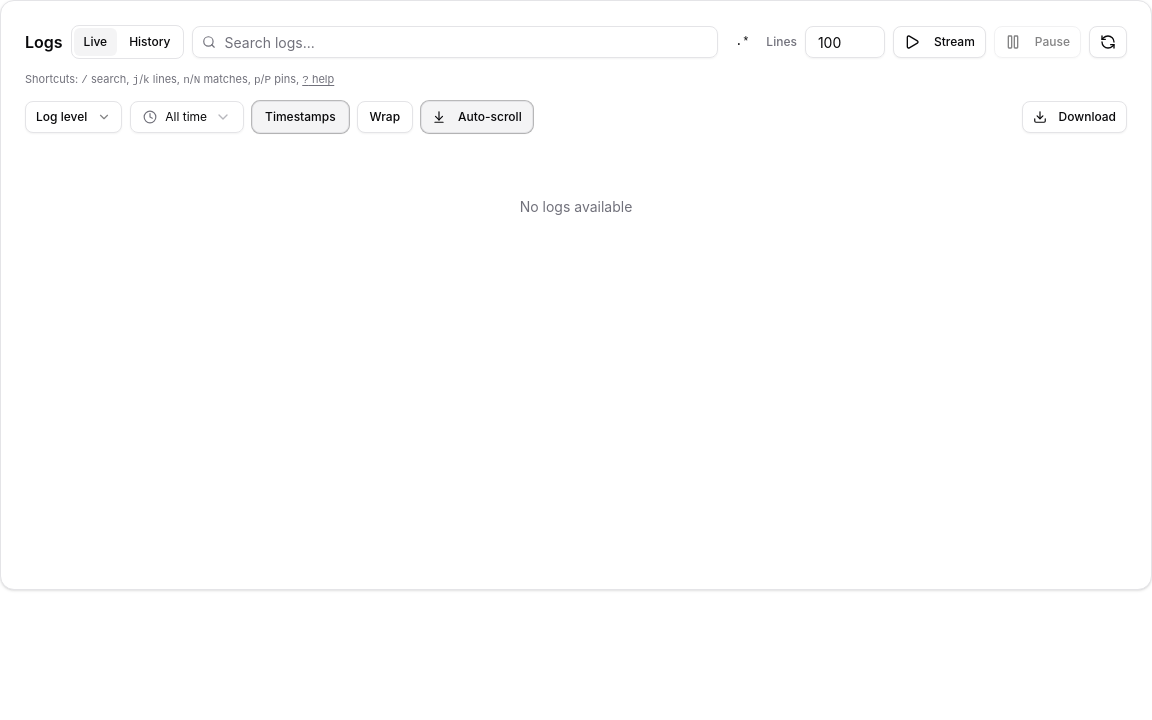
Test: LogViewer history mode › shows the source toggle and renders stored entries in history mode
Expected: the button "Live" is shown, [74, 28, 117, 56]
Click the button "History".
click(150, 42)  # box [119, 28, 180, 56]
Wait 1 ms
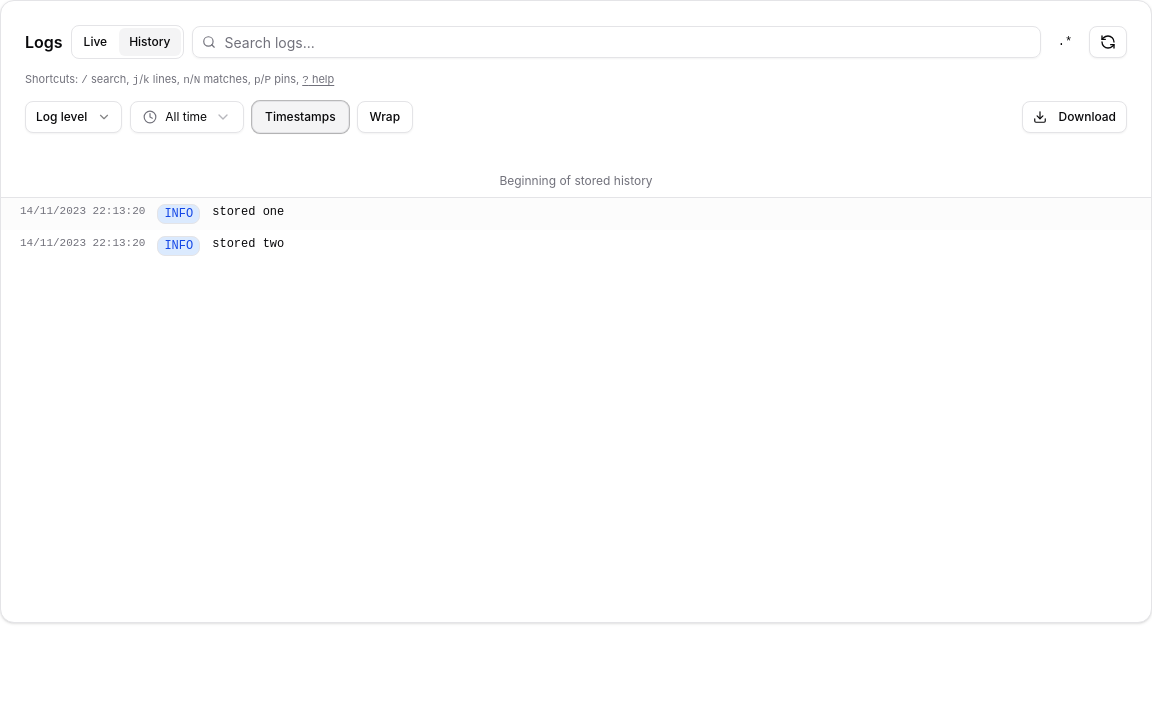
Now the text "stored one" is shown, box [212, 204, 284, 218]
Now the text "stored two" is shown, box [212, 236, 284, 250]
Now the text "Beginning of stored history" is shown, box [499, 172, 653, 188]
